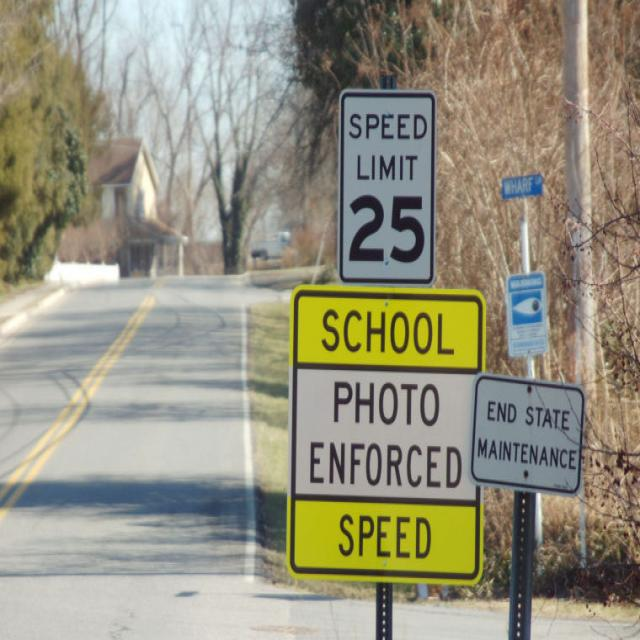speedLimit25: (339, 96, 431, 290)
